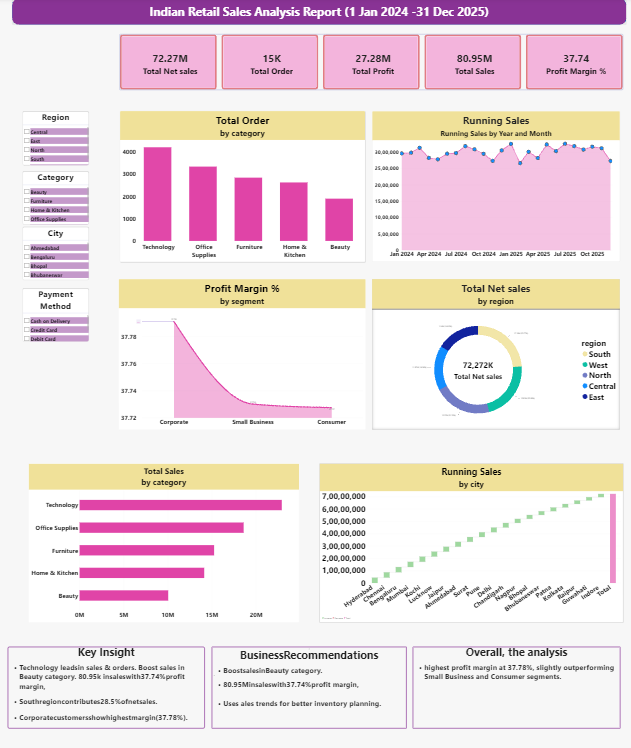

This screenshot's page, from the dashboard's own definition file:
{"tool":"powerbi","page":{"name":"Page 1","canvas":[4200,5000],"ordinal":0},"visuals":[{"type":"cardVisual","fields":{"Data":["public sales_analysis.Total Net sales","public sales_analysis.Total Order","public sales_analysis.Total Profit","public sales_analysis.Total Sales","public sales_analysis.Profit Margin %"]},"box":[785,234,3356,385],"z":0},{"type":"textbox","box":[150,0,3805,175],"z":1000},{"type":"shape","box":[75,5,4075,175],"z":2000},{"type":"textbox","box":[3965,0,235,175],"z":3000},{"type":"columnChart","fields":{"Category":["public sales_analysis.category"],"Y":["public sales_analysis.Total Order"]},"box":[800,755,1625,1000],"z":4000},{"type":"lineChart","title":"Running Sales ","fields":{"Category":["public sales_analysis.order_date.Variation.Date Hierarchy.Year","public sales_analysis.order_date.Variation.Date Hierarchy.Month"],"Y":["public sales_analysis.Running Sales"]},"box":[2465,755,1645,1000],"z":5000},{"type":"lineChart","fields":{"Category":["public sales_analysis.segment"],"Y":["public sales_analysis.Profit Margin %"]},"box":[785,1870,1640,1000],"z":6000},{"type":"donutChart","fields":{"Category":["public sales_analysis.region"],"Y":["public sales_analysis.Total Net sales"]},"box":[2468.8,1875,1643.8,1000],"z":7000},{"type":"clusteredBarChart","fields":{"Category":["public sales_analysis.category"],"Y":["public sales_analysis.Total Sales"]},"box":[190,3095,1795,1055],"z":8000},{"type":"waterfallChart","fields":{"Category":["public sales_analysis.city"],"Y":["public sales_analysis.Running Sales"]},"box":[2115,3095,2015,1055],"z":9000},{"type":"slicer","title":"Region","fields":{"Values":["public sales_analysis.region"]},"box":[150,755,440,360],"z":10002},{"type":"slicer","title":"Category","fields":{"Values":["public sales_analysis.category"]},"box":[150,1150,440,355],"z":10003},{"type":"slicer","title":"City","fields":{"Values":["public sales_analysis.city"]},"box":[150,1520,440,355],"z":10004},{"type":"slicer","title":"Payment Method","fields":{"Values":["public sales_analysis.payment_method"]},"box":[150,1925,440,355],"z":10005},{"type":"textbox","box":[0,0,150,175],"z":10006},{"type":"textbox","box":[45,4310,1310,545],"z":10012},{"type":"textbox","box":[1405,4310,1295,545],"z":10013},{"type":"textbox","box":[2735,4310,1380,545],"z":10014}]}

Visuals, with their boxes in screenshot pixels (x1, y1, x2, y2), scaled from the page's 4200x5000 canvas onto the 631x748 screenshot:
cardVisual - public sales_analysis.Total Net sales x public sales_analysis.Total Order: region(118, 35, 622, 93)
textbox: region(23, 0, 594, 26)
shape: region(11, 1, 623, 27)
textbox: region(596, 0, 630, 26)
columnChart - public sales_analysis.category x public sales_analysis.Total Order: region(120, 113, 364, 263)
"Running Sales " lineChart: region(370, 113, 617, 263)
lineChart - public sales_analysis.segment x public sales_analysis.Profit Margin %: region(118, 280, 364, 429)
donutChart - public sales_analysis.region x public sales_analysis.Total Net sales: region(371, 280, 618, 430)
clusteredBarChart - public sales_analysis.category x public sales_analysis.Total Sales: region(29, 463, 298, 621)
waterfallChart - public sales_analysis.city x public sales_analysis.Running Sales: region(318, 463, 620, 621)
"Region" slicer: region(23, 113, 89, 167)
"Category" slicer: region(23, 172, 89, 225)
"City" slicer: region(23, 227, 89, 280)
"Payment Method" slicer: region(23, 288, 89, 341)
textbox: region(0, 0, 23, 26)
textbox: region(7, 645, 204, 726)
textbox: region(211, 645, 406, 726)
textbox: region(411, 645, 618, 726)
